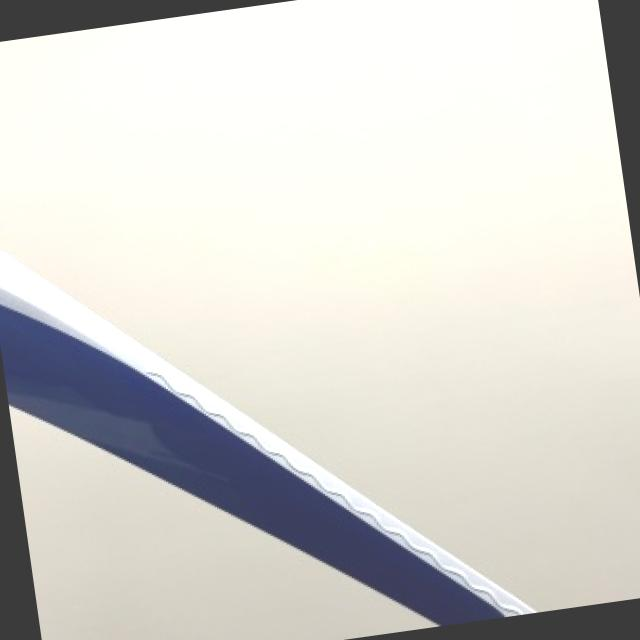healthy: (0, 251, 533, 624)
